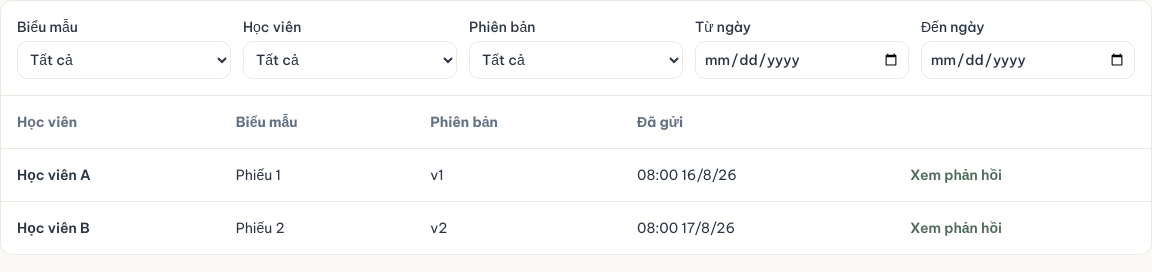
Test case: Wave B coaching form presentation › filters the staff response list without exposing answer data in the list
Step 1. Select "Phiếu 2" in the dropdown named "Lọc biểu mẫu" → (124, 60), box [17, 41, 231, 79]
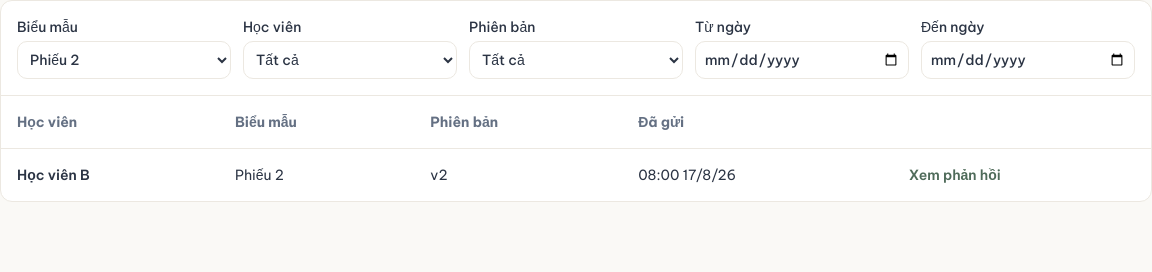
Check: the text "Học viên B" is shown 2 times
